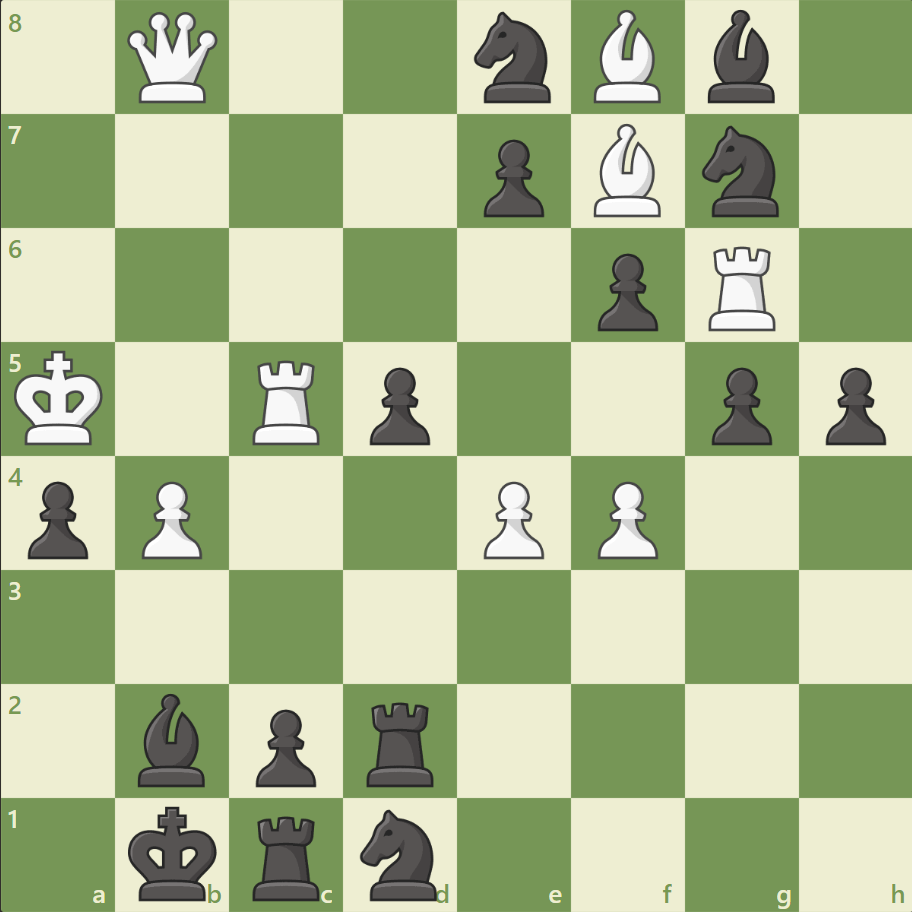B: (585, 6, 669, 109), (585, 120, 669, 222)
K: (11, 344, 111, 452)
P: (133, 473, 208, 564), (474, 473, 549, 564), (588, 473, 662, 564)
Q: (124, 9, 223, 108)
R: (700, 239, 783, 336), (246, 352, 329, 449)
b: (698, 6, 782, 109), (131, 687, 215, 790)
k: (124, 798, 224, 906)
n: (351, 802, 449, 904), (465, 7, 562, 110), (692, 121, 789, 223)
p: (474, 132, 549, 223), (701, 359, 776, 450), (20, 473, 95, 564), (247, 700, 322, 791), (588, 246, 662, 337), (361, 359, 435, 450), (815, 359, 889, 450)
r: (246, 806, 329, 904), (360, 693, 442, 790)
